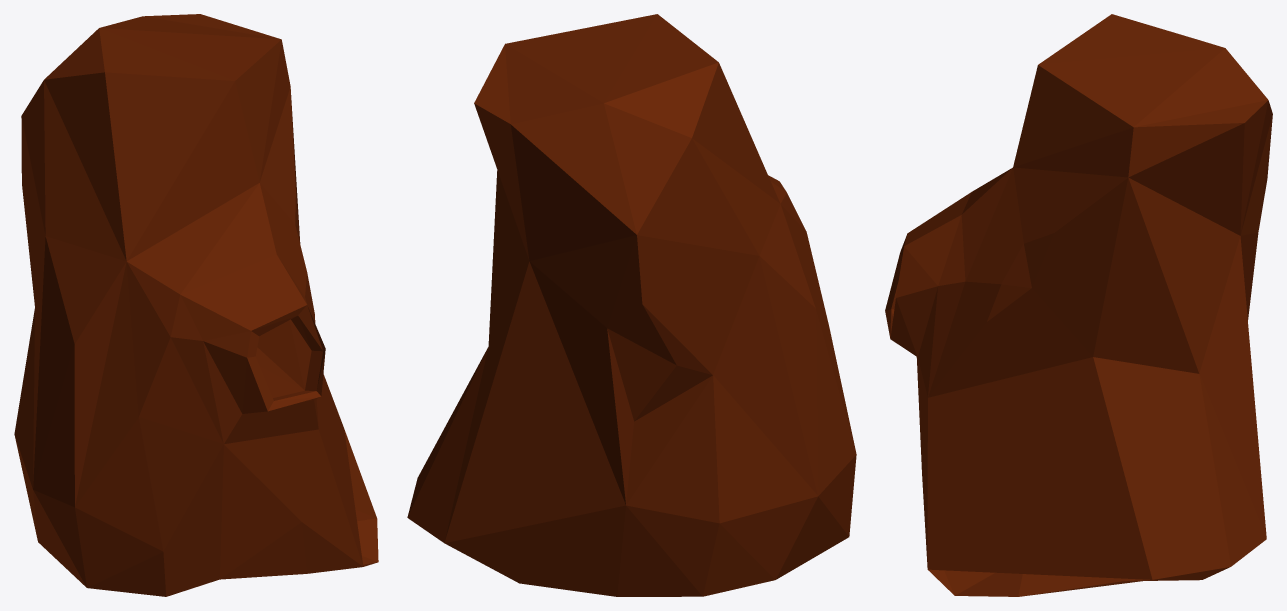
File: treetrunk.01.gltf
3 views of the same model, side by side, from view 1: azimuth 30°, elevation 25°; view 2: azimuth 150°, elevation 25°; view 3: azimuth 270°, elevation 25° (orthographic). The views are drawn at different scales.
Visible parts, largest first — view 1: Treetrunk.01; view 2: Treetrunk.01; view 3: Treetrunk.01.
Part boxes in pixels (x1,y1,x2,y2): Treetrunk.01: (14,14,378,596); Treetrunk.01: (407,14,856,596); Treetrunk.01: (885,14,1272,596).
Size of the model in its own units: 0.5024 by 0.6761 by 0.4896.
